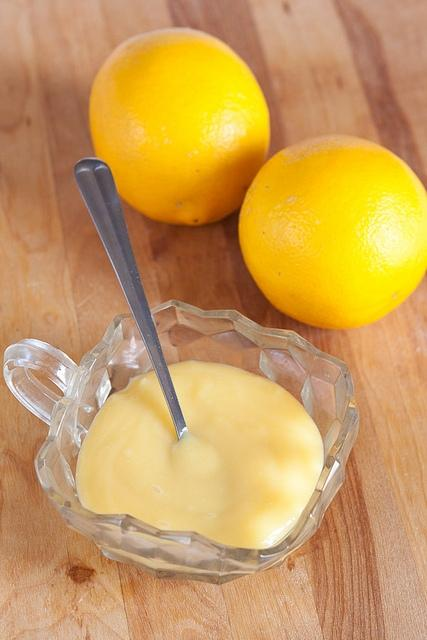lemon: (237, 132, 427, 330), (88, 28, 271, 226)
